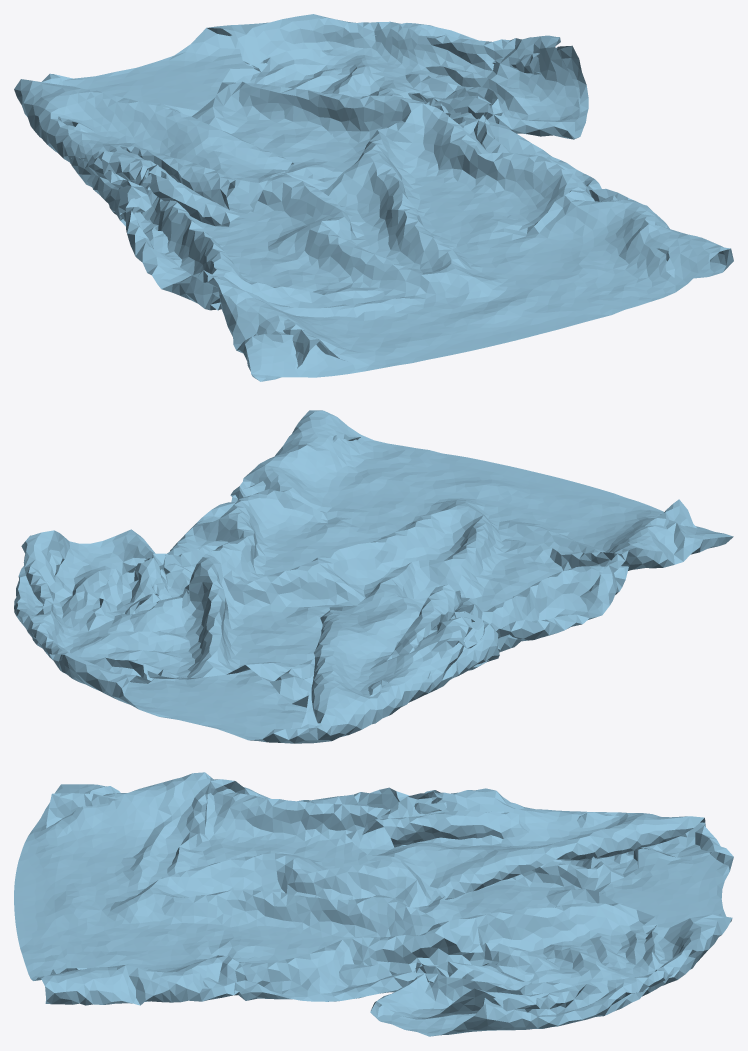
File: frame_02.glb
The picture shows the model from 3 angles, top to bottom: view 1: azimuth 30°, elevation 25°; view 2: azimuth 150°, elevation 25°; view 3: azimuth 270°, elevation 25°; orthographic projection. The views are drawn at different scales.
Visible parts, largest first — view 1: frame_02.obj; view 2: frame_02.obj; view 3: frame_02.obj.
Part boxes in pixels (x1,y1,x2,y2): frame_02.obj: (14,14,733,381); frame_02.obj: (14,410,733,743); frame_02.obj: (14,772,733,1036).
Size of the model in its own units: 1.4 by 0.1304 by 1.69.
